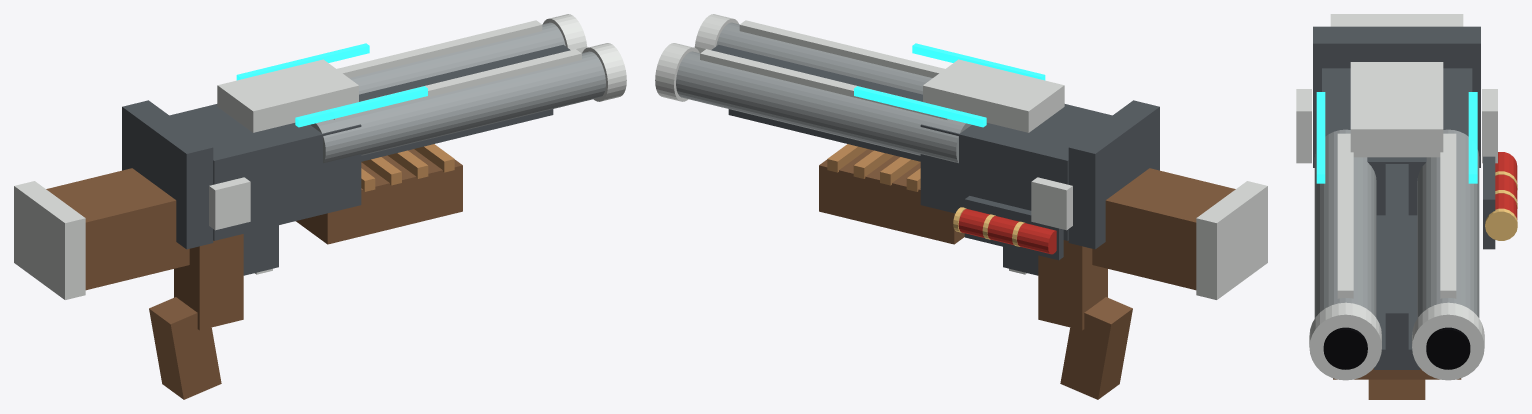
File: lg_duel_shotgun_sg.glb
3 views of the same model, side by side, from view 1: azimuth 30°, elevation 25°; view 2: azimuth 150°, elevation 25°; view 3: azimuth 270°, elevation 25° (orthographic). The views are drawn at different scales.
Visible parts, largest first — view 1: receiver_heavy_beveled_block, left_long_barrel_outer_tube, short_rear_stock_stub, rear_dark_breech_face, wide_walnut_foregrip, rear_butt_plate_metal, top_locking_rib, angled_dark_walnut_pistol_grip_upper, angled_dark_walnut_pistol_grip_lower, right_long_barrel_outer_tube, right_flat_top_highlight_strip, left_flat_top_highlight_strip (+11 smaller); view 2: right_long_barrel_outer_tube, receiver_heavy_beveled_block, short_rear_stock_stub, rear_dark_breech_face, rear_butt_plate_metal, top_locking_rib, wide_walnut_foregrip, angled_dark_walnut_pistol_grip_lower, angled_dark_walnut_pistol_grip_upper, left_long_barrel_outer_tube, left_flat_top_highlight_strip, right_flat_top_highlight_strip (+15 smaller); view 3: top_locking_rib, rear_dark_breech_face, right_long_barrel_outer_tube, left_long_barrel_outer_tube, receiver_heavy_beveled_block, center_barrel_spacer_dark_spine, right_bright_muzzle_lip, left_bright_muzzle_lip, underbarrel_shadow_rib, left_flat_top_highlight_strip, right_flat_top_highlight_strip, rear_butt_plate_metal (+13 smaller).
Part boxes in pixels (<box>): receiver_heavy_beveled_block: <box>169,104,361,240</box>; left_long_barrel_outer_tube: <box>310,51,605,163</box>; short_rear_stock_stub: <box>46,168,189,290</box>; rear_dark_breech_face: <box>122,100,213,249</box>; wide_walnut_foregrip: <box>296,149,462,244</box>; rear_butt_plate_metal: <box>14,181,85,299</box>; top_locking_rib: <box>217,59,358,132</box>; angled_dark_walnut_pistol_grip_upper: <box>174,234,243,330</box>; angled_dark_walnut_pistol_grip_lower: <box>149,297,221,399</box>; right_long_barrel_outer_tube: <box>349,22,565,94</box>; right_flat_top_highlight_strip: <box>337,20,542,77</box>; left_flat_top_highlight_strip: <box>334,49,581,119</box>; right_long_barrel_outer_tube: <box>676,51,971,163</box>; receiver_heavy_beveled_block: <box>920,104,1112,240</box>; short_rear_stock_stub: <box>1092,168,1235,290</box>; rear_dark_breech_face: <box>1068,100,1159,249</box>; rear_butt_plate_metal: <box>1196,181,1267,299</box>; top_locking_rib: <box>923,59,1064,132</box>; wide_walnut_foregrip: <box>819,149,964,244</box>; angled_dark_walnut_pistol_grip_lower: <box>1060,297,1132,399</box>; angled_dark_walnut_pistol_grip_upper: <box>1038,240,1107,330</box>; left_long_barrel_outer_tube: <box>716,22,932,94</box>; left_flat_top_highlight_strip: <box>739,20,944,77</box>; right_flat_top_highlight_strip: <box>700,49,947,119</box>; top_locking_rib: <box>1350,62,1443,157</box>; rear_dark_breech_face: <box>1313,26,1480,167</box>; right_long_barrel_outer_tube: <box>1417,129,1479,318</box>; left_long_barrel_outer_tube: <box>1314,129,1376,318</box>; receiver_heavy_beveled_block: <box>1322,68,1472,215</box>; center_barrel_spacer_dark_spine: <box>1385,164,1408,349</box>; right_bright_muzzle_lip: <box>1412,302,1484,380</box>; left_bright_muzzle_lip: <box>1309,302,1381,380</box>; underbarrel_shadow_rib: <box>1374,215,1419,369</box>; left_flat_top_highlight_strip: <box>1337,133,1353,298</box>; right_flat_top_highlight_strip: <box>1440,133,1456,298</box>; rear_butt_plate_metal: <box>1330,14,1463,26</box>.
Size of the model in its own units: 0.9465 by 0.4522 by 0.2505.
